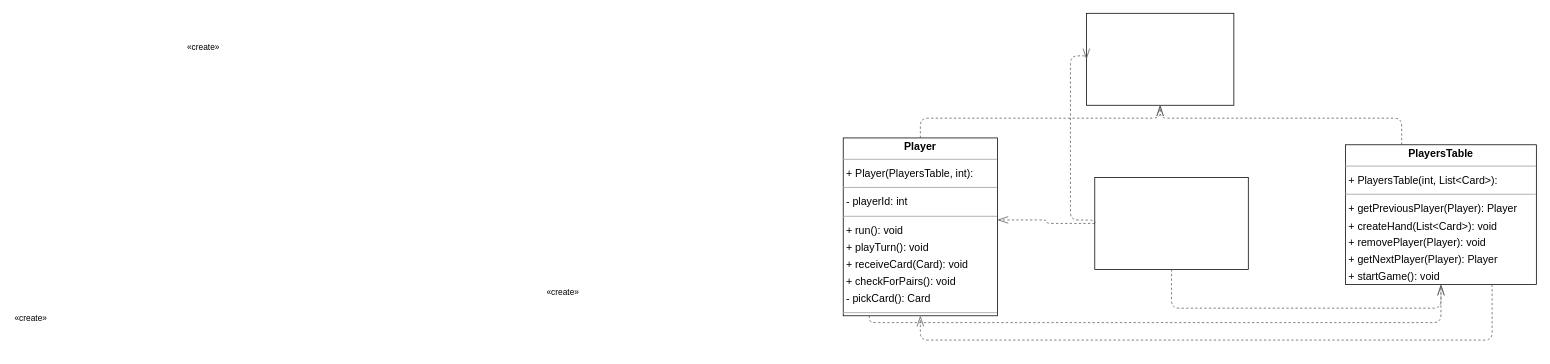
This 1550x364 diagram has some shape labels left out. Here are the shapes that lost their labels. From the top down, the centre of each, then its label:
At pixel 1160 59: "Card + Card(String, String): + matches(Card): boolean + equals(Object): boolean".
At pixel 1171 223: "OldMaid + OldMaid(): + main(String[]): void - createDeck(): List<Card>".
